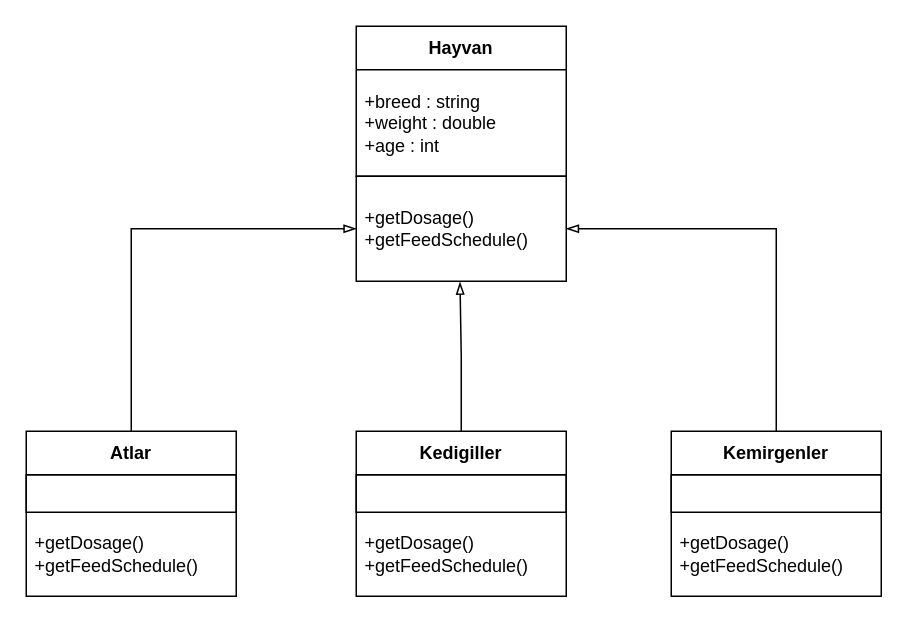
The diagram is 908 pixels wide and 623 high, and some of its shapes have lost their labels. The centre of each missing label's shape, as x and y in pixels:
"+isDomestic : boolean" goes at pixel 460 492.
"+isPoisonous : boolean" goes at pixel 775 492.
"+speedInMph : decimal" goes at pixel 130 492.
